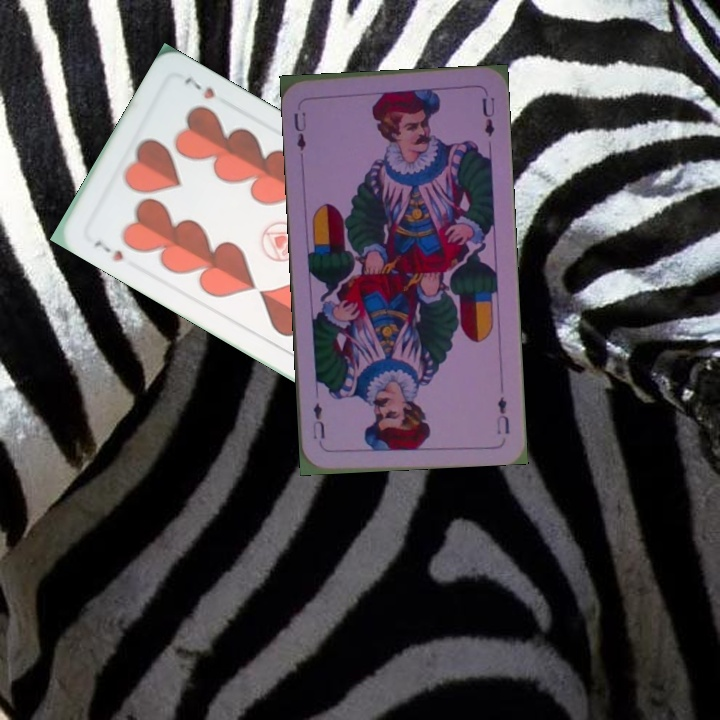EU: (492, 393, 512, 437), (289, 108, 308, 153)
H7: (90, 235, 127, 264)
